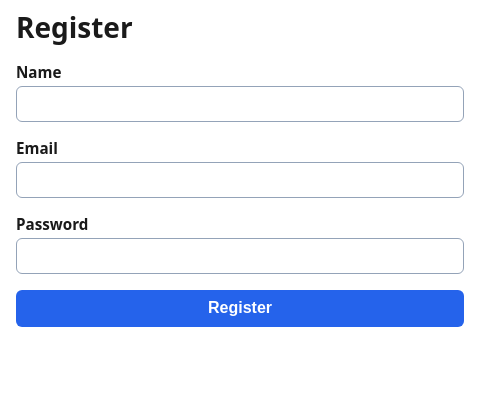
Scenario: RegisterPage › displays the server DUPLICATE_EMAIL message without navigating
Type "John Doe" into the field labelled "Name" at (240,104), box [16,86,464,122]
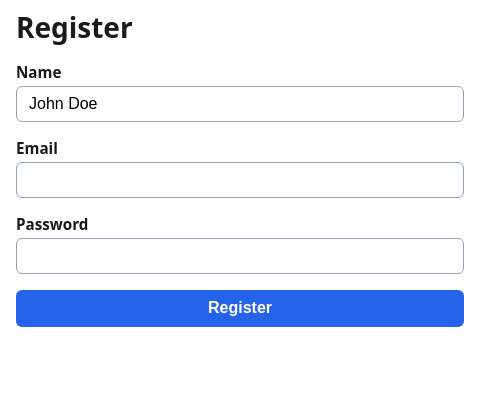
Type "john@example.com" into the field labelled "Email" at (240,180), box [16,162,464,198]
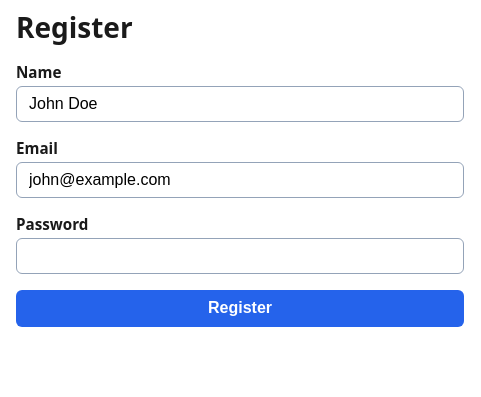
Type "securePass1" into the password field labelled "Password" at (240,256), box [16,238,464,274]
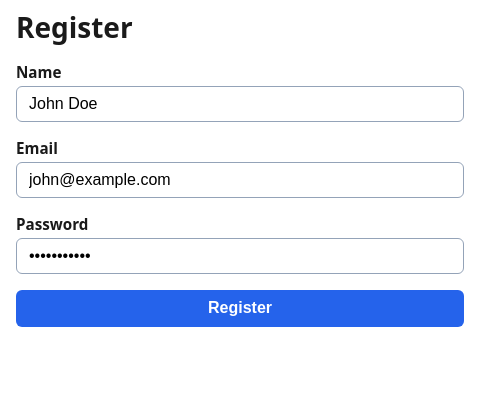
Click the button "Register" at (240,308), box [16,290,464,327]
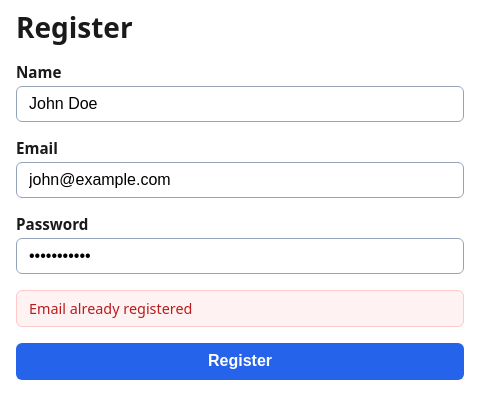
Now the text "Email already registered" is shown, box [16,290,464,327]
